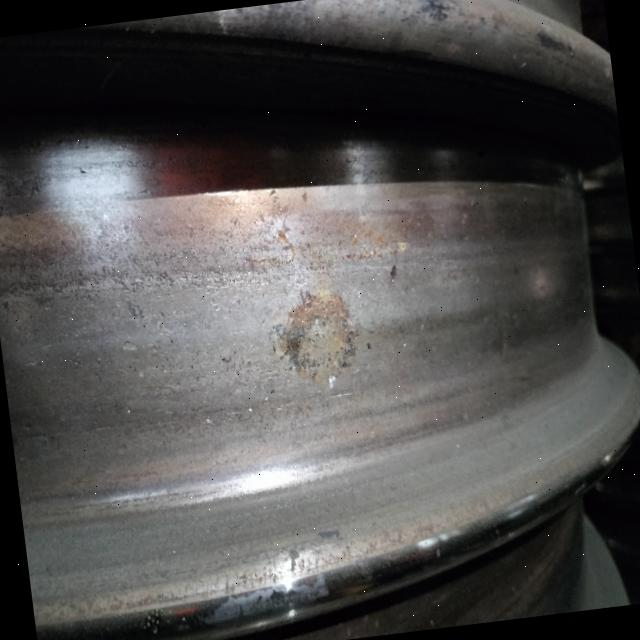Contact_Fatigue_Cracks: (12, 259, 259, 312)
Peeling: (265, 210, 394, 270)
